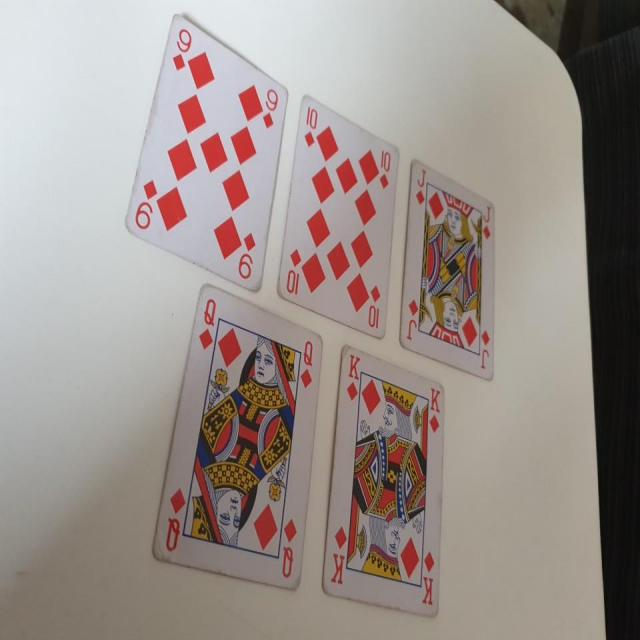10 Diamonds: (276, 92, 401, 340)
9 Diamonds: (124, 14, 289, 295)
J Diamonds: (398, 157, 498, 384)
K Diamonds: (321, 340, 450, 622)
Q Diamonds: (152, 281, 323, 594)
